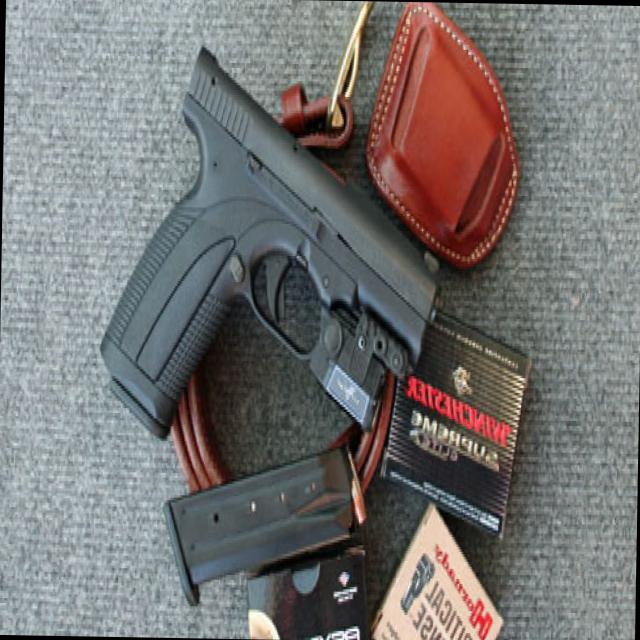Gun: (86, 36, 444, 476)
